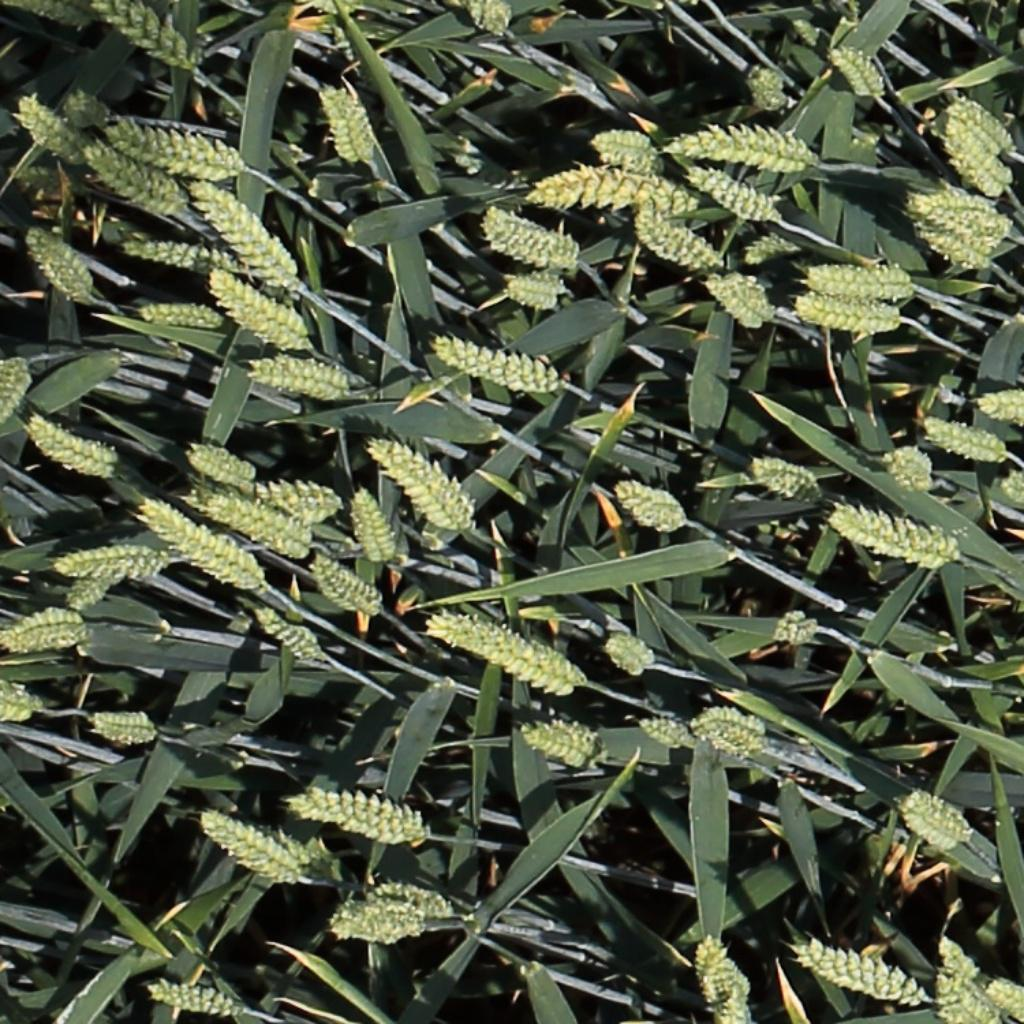0-0: (189, 177, 307, 292), (137, 494, 273, 587), (428, 618, 578, 693), (82, 140, 204, 230), (282, 782, 438, 851), (192, 799, 311, 889), (181, 485, 318, 562), (371, 439, 479, 535), (786, 940, 928, 1013), (103, 116, 253, 181), (206, 271, 318, 354), (525, 168, 712, 213), (428, 335, 564, 391), (95, 1, 196, 72), (831, 509, 955, 561), (940, 110, 1013, 193), (481, 210, 585, 268), (246, 354, 368, 403), (689, 933, 754, 1024), (26, 415, 116, 480), (670, 128, 820, 167), (686, 162, 782, 221), (23, 222, 92, 299), (687, 697, 771, 760), (57, 538, 178, 581), (634, 210, 720, 270), (806, 261, 922, 305), (518, 718, 608, 773), (12, 90, 81, 161), (309, 551, 385, 615), (176, 437, 264, 492), (947, 95, 1021, 160), (612, 475, 689, 536), (327, 900, 429, 946), (261, 471, 351, 523), (903, 180, 991, 232), (707, 267, 779, 330), (318, 80, 370, 166), (791, 296, 907, 334), (0, 606, 91, 652), (915, 222, 996, 271), (361, 874, 455, 916), (118, 238, 241, 270), (917, 416, 1006, 460), (348, 483, 393, 569), (928, 198, 1014, 243), (143, 976, 237, 1017), (249, 607, 319, 662), (259, 820, 334, 871), (826, 40, 884, 101), (903, 794, 972, 842), (84, 706, 162, 748), (933, 966, 989, 1024), (934, 935, 992, 990), (767, 600, 826, 653), (502, 273, 574, 312), (0, 674, 50, 729), (748, 460, 819, 498), (0, 352, 34, 431), (591, 128, 659, 165), (882, 446, 933, 495), (136, 300, 227, 324), (62, 572, 118, 611), (636, 712, 694, 749), (600, 638, 651, 674), (744, 66, 786, 109), (986, 976, 1024, 1023), (465, 1, 513, 38), (15, 0, 84, 25), (741, 231, 801, 259), (977, 390, 1024, 419)
